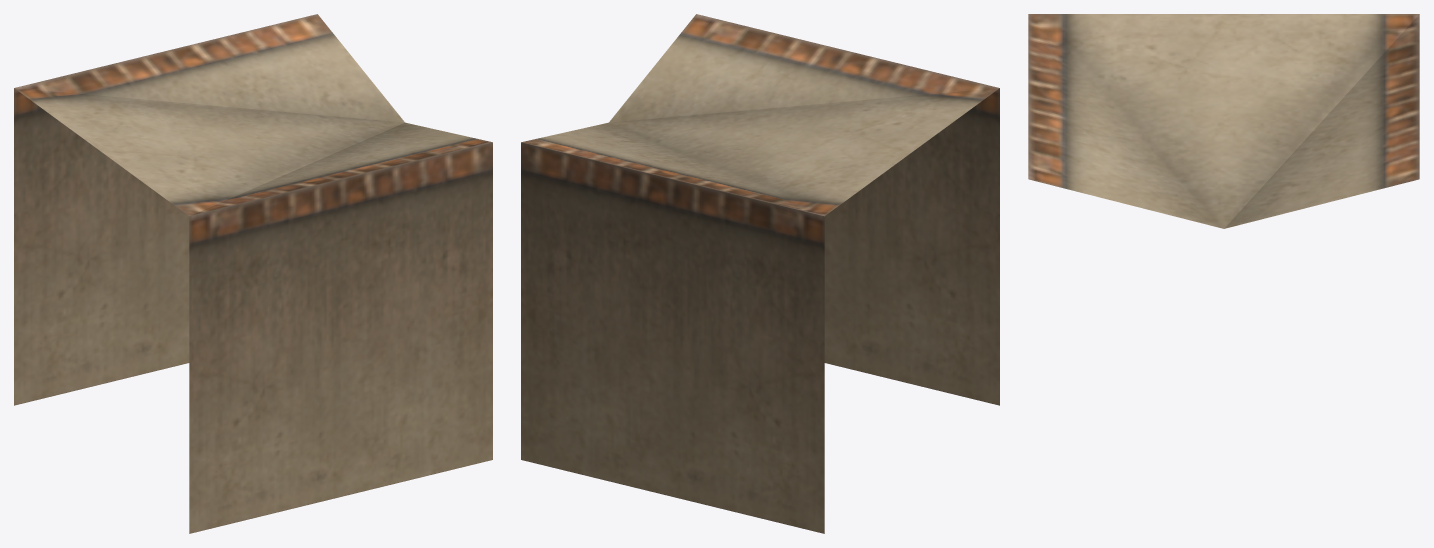
Rendered from normal_sink_edge.glb.
The picture shows the model from 3 angles, left to right: view 1: azimuth 30°, elevation 25°; view 2: azimuth 150°, elevation 25°; view 3: azimuth 270°, elevation 25°; orthographic projection. The views are drawn at different scales.
Parts seen in each view (by area): view 1: NormalChange_Su2Fl_180; view 2: NormalChange_Su2Fl_180; view 3: NormalChange_Su2Fl_180.
Boxes of the visible parts, x1=… form: NormalChange_Su2Fl_180: x1=14, y1=14, x2=492, y2=533; NormalChange_Su2Fl_180: x1=521, y1=14, x2=999, y2=533; NormalChange_Su2Fl_180: x1=1028, y1=14, x2=1419, y2=228.
Bounding box in the file's own units: 5 × 5 × 5.
2 materials, 2 textured.
